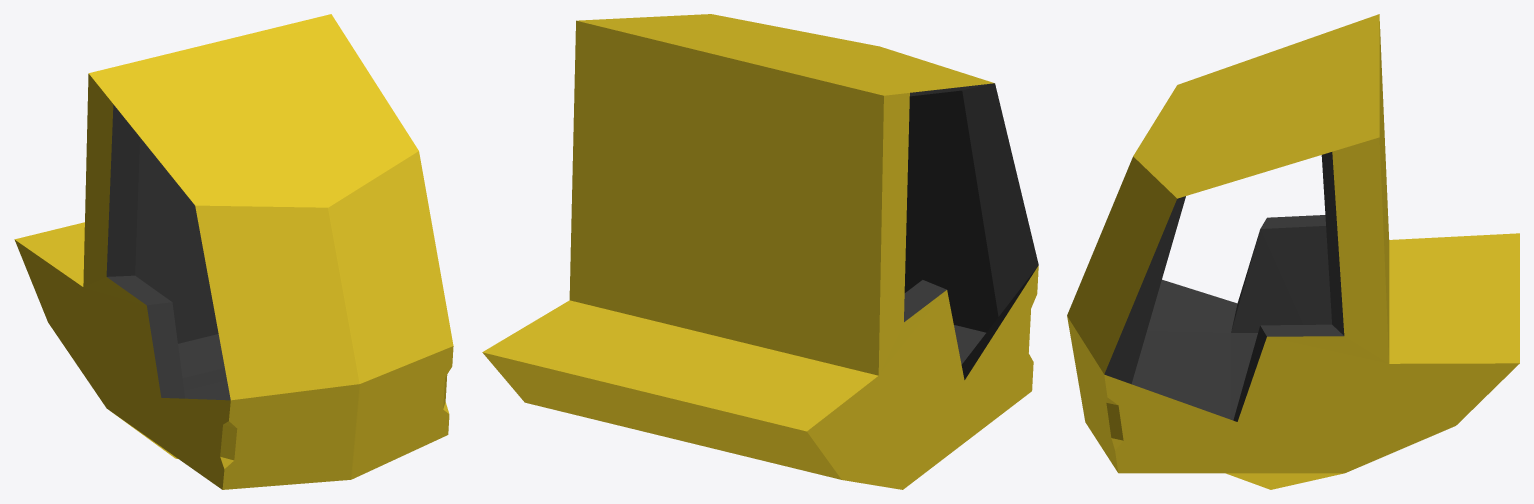
The model's file is D14_RB_SpaceCheck.fbx.
3 renders of one model, left to right at view 1: azimuth 30°, elevation 25°; view 2: azimuth 150°, elevation 25°; view 3: azimuth 270°, elevation 25°, orthographic. The views are drawn at different scales.
Visible parts, largest first — view 1: Plane.001; view 2: Plane.001; view 3: Plane.001.
Boxes of the visible parts, x1,y1,x2,y2 form: Plane.001: (14, 14, 453, 489); Plane.001: (482, 14, 1038, 489); Plane.001: (1067, 14, 1519, 489).
Bounding box in the file's own units: 72.08 × 95.66 × 106.
